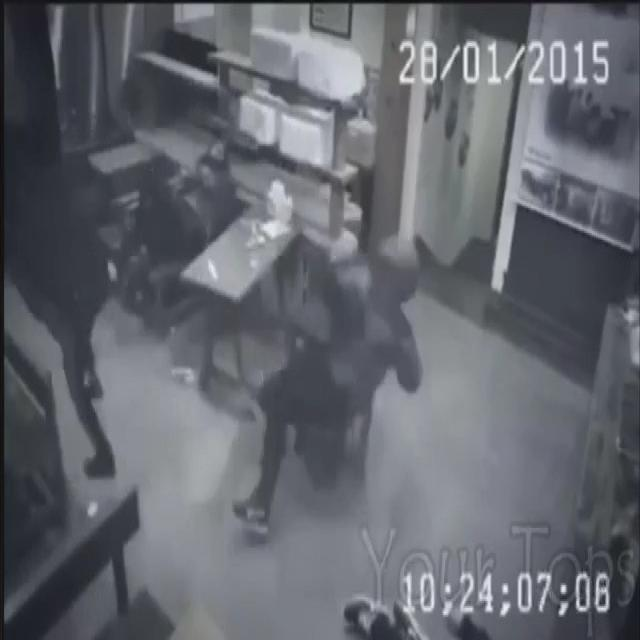fight: (232, 227, 426, 539), (15, 138, 116, 488)
